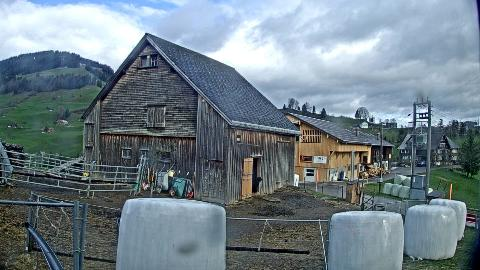car: (418, 162, 426, 166)
sheep: (252, 176, 264, 192)
